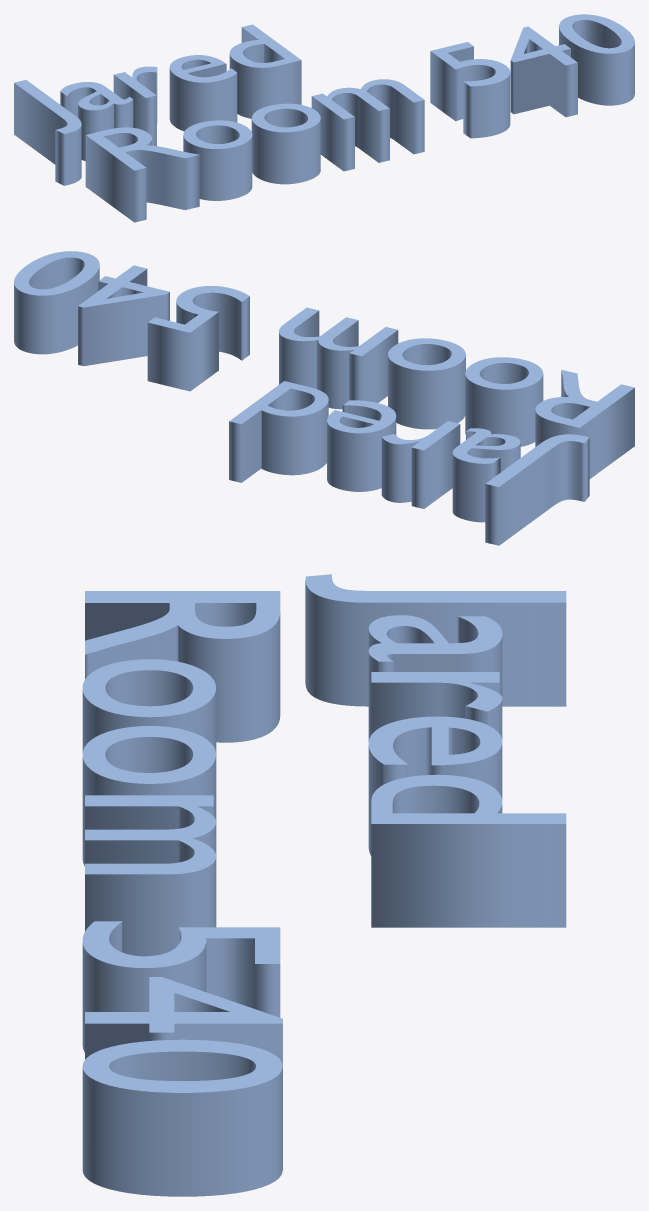
File: jared-540.gltf
3 views of the same model, one above another, from view 1: azimuth 30°, elevation 25°; view 2: azimuth 150°, elevation 25°; view 3: azimuth 270°, elevation 25° (orthographic). The views are drawn at different scales.
Visible parts, largest first — view 1: Text; view 2: Text; view 3: Text.
Part boxes in pixels (x1,y1,x2,y2): Text: (14, 14, 634, 222); Text: (14, 251, 634, 545); Text: (82, 574, 566, 1196).
Bounding box in the file's own units: 4.29 × 0.4 × 1.69.
